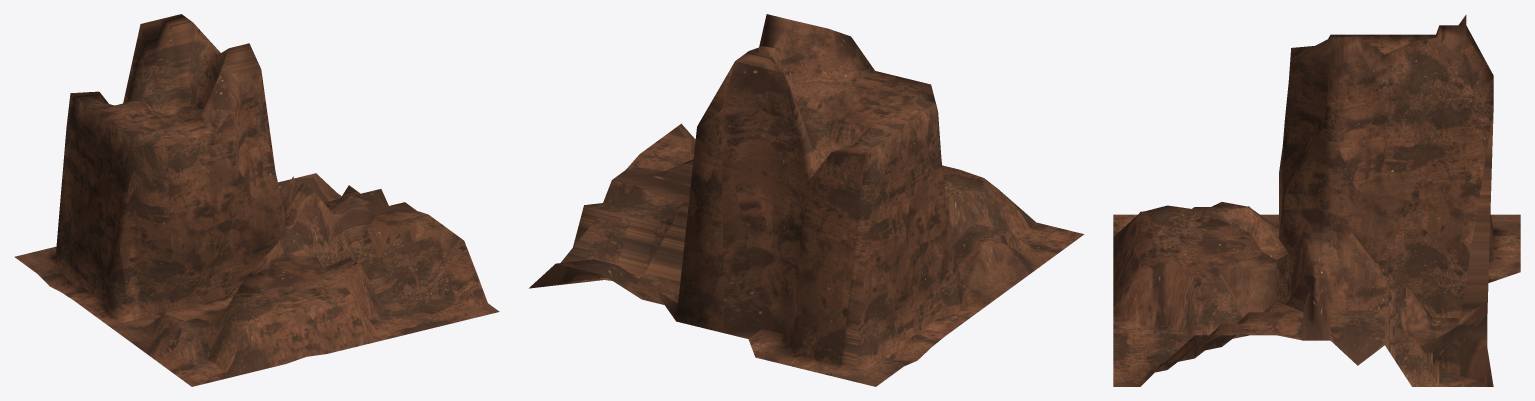
File: SpaceWallTexture.fbx
The picture shows the model from 3 angles, left to right: view 1: azimuth 30°, elevation 25°; view 2: azimuth 150°, elevation 25°; view 3: azimuth 270°, elevation 25°; orthographic projection. The views are drawn at different scales.
Parts seen in each view (by area): view 1: wall; view 2: wall; view 3: wall.
Part boxes in pixels (left/top/right/bottom): wall: left=14, top=14, right=499, bottom=386; wall: left=529, top=14, right=1084, bottom=386; wall: left=1113, top=14, right=1520, bottom=386.
Size of the model in its own units: 160 by 116 by 160.
